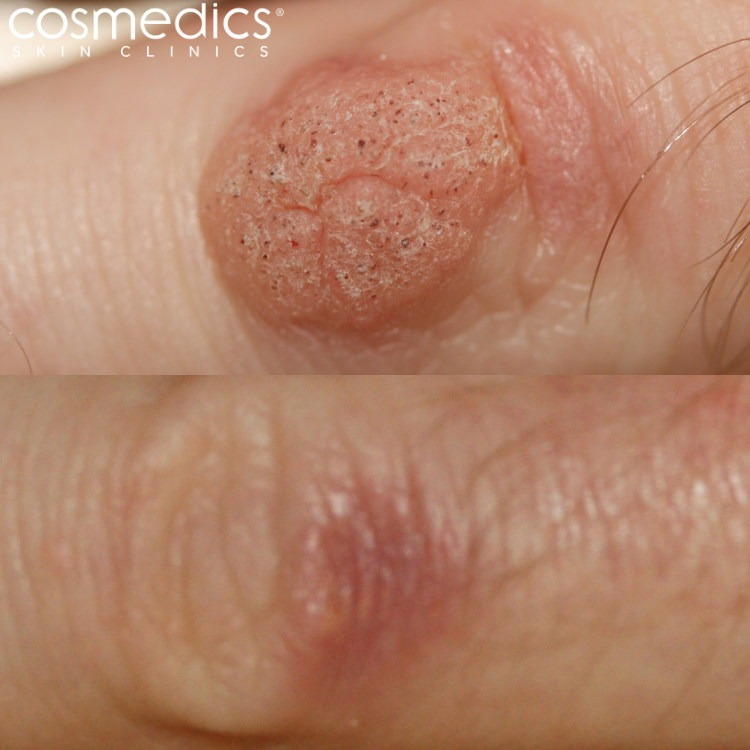Warts: (186, 68, 537, 353)
